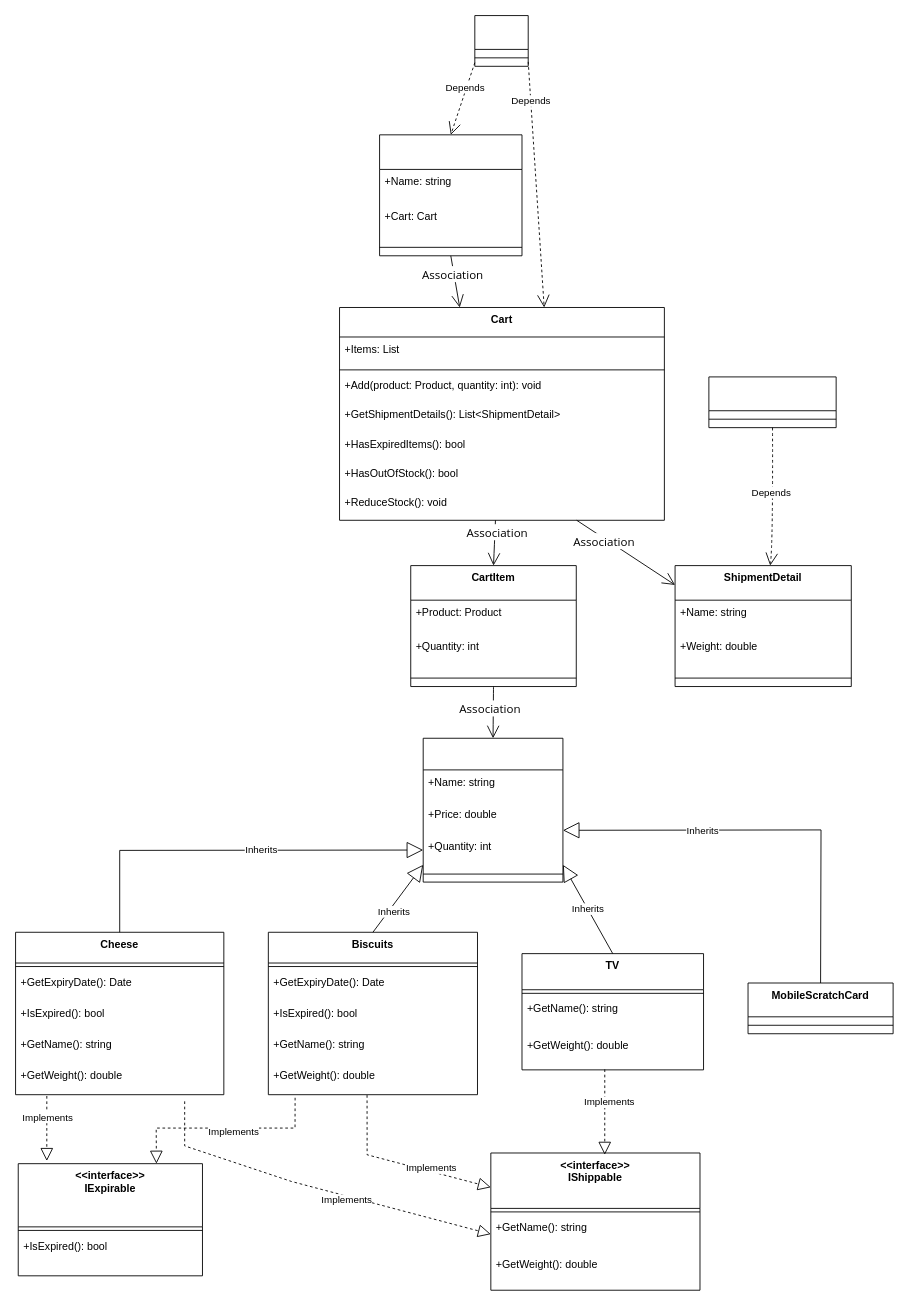
The diagram is 909 pixels wide and 1308 high, and some of its shapes have lost their labels. Here are the shapes that lost their labels. From the top down, the box of each, then its label:
(474, 15, 528, 66): Shop
(379, 134, 522, 256): Customer
(708, 376, 836, 428): ShippingService
(422, 737, 563, 882): Product
